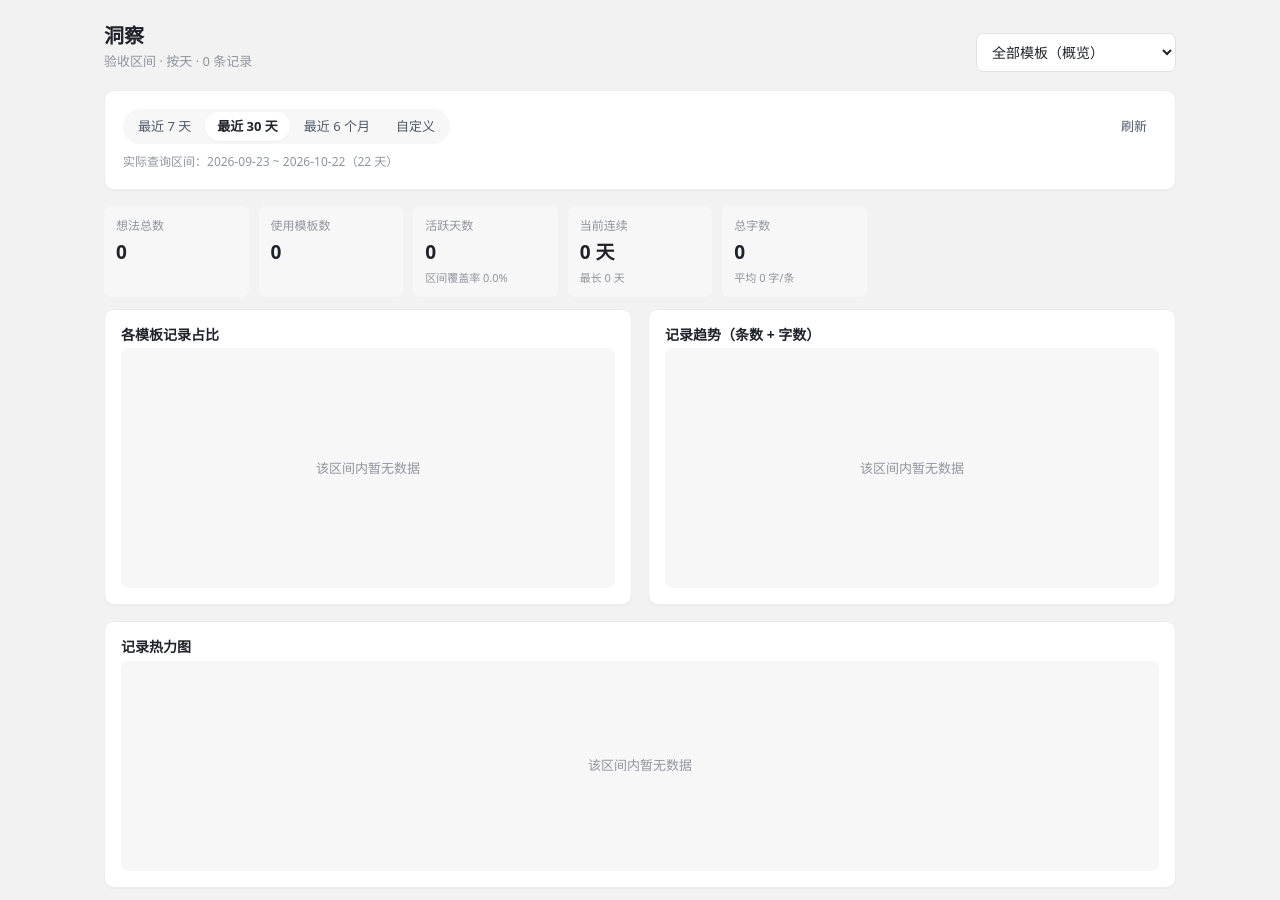
it: 洞察请求与筛选条件保持一致 › 区间无效时使旧请求失效并禁用导出
Check: the text "使用模板数" is shown, box [271,217,331,234]
Select "模板A" in the dropdown named "选择模板" at (1076, 52), box [976,33,1176,72]
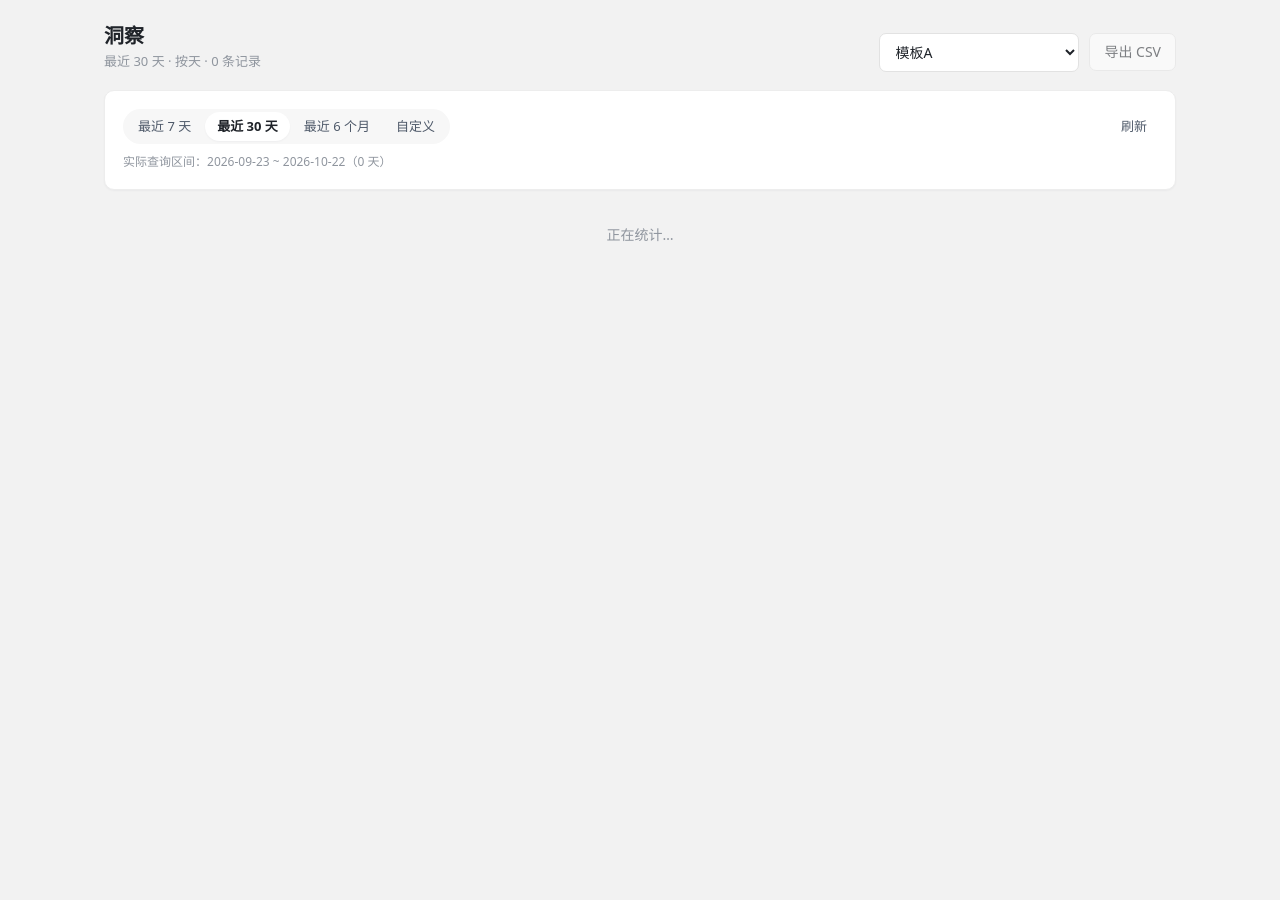
Click the tab "自定义" at (416, 126), box [384,112,447,141]
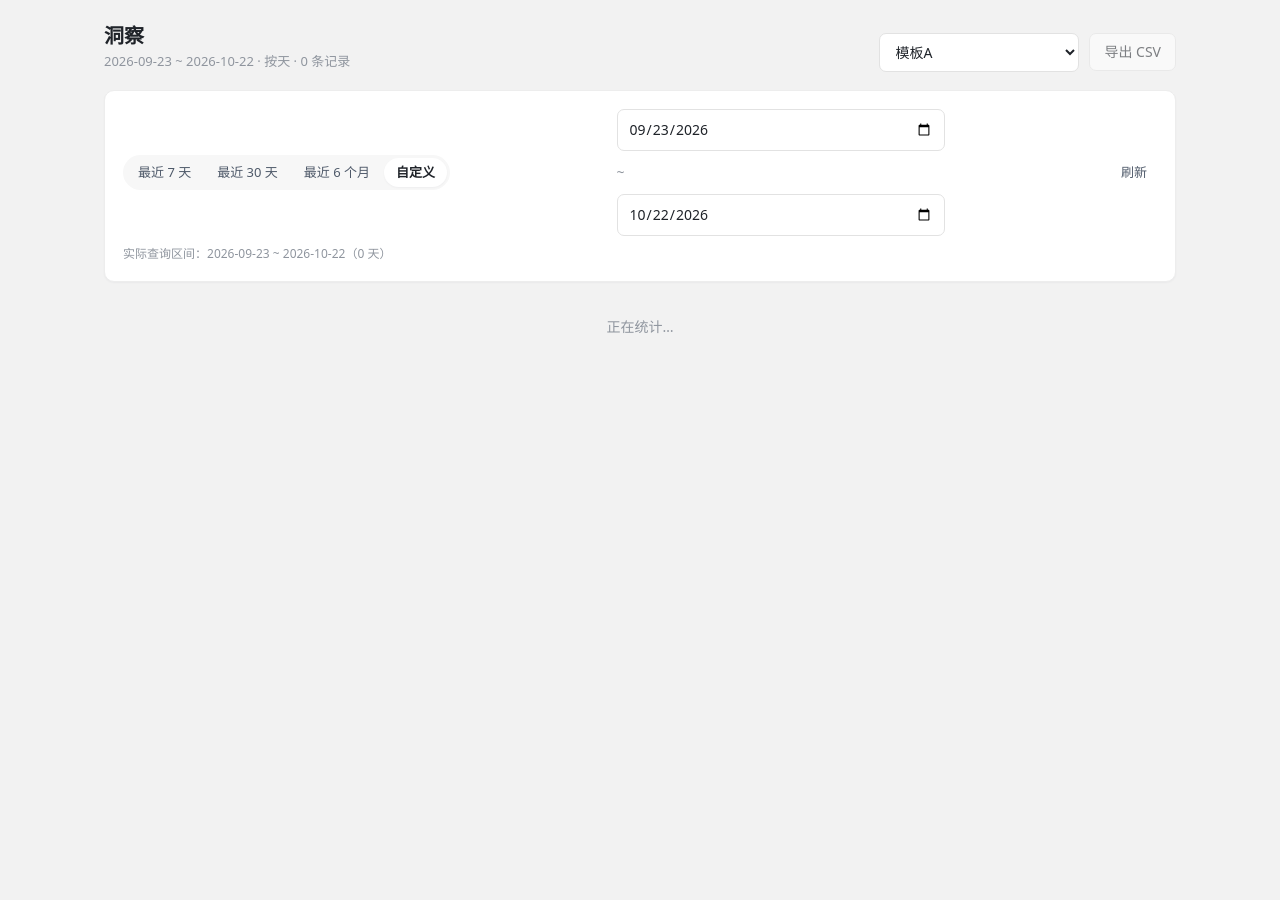
Type "2099-01-01" into the date field named "开始日期" at (780, 130), box [616,109,944,151]
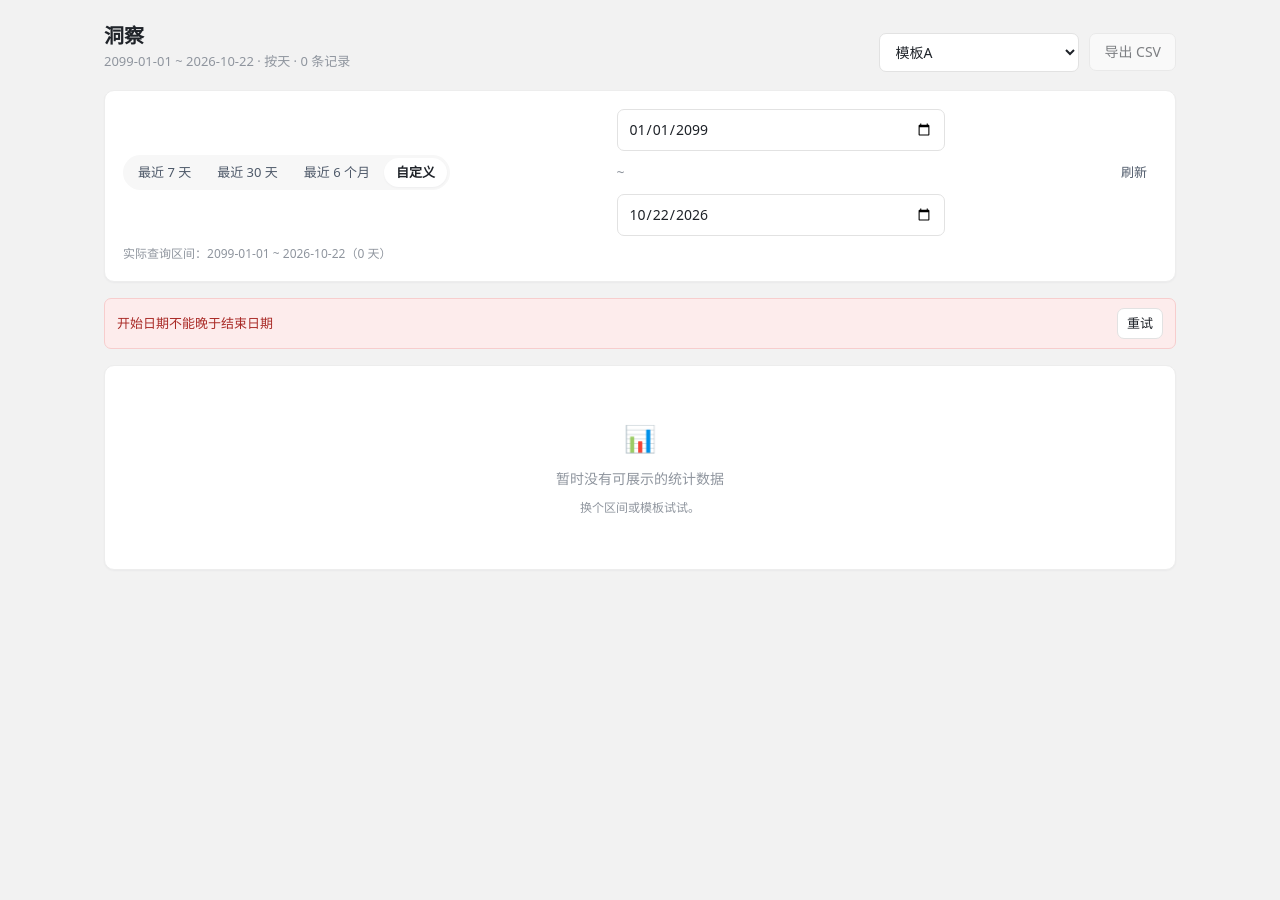
Check: the button "导出 CSV" is disabled, box [1089,33,1176,72]
Check: the text "正在统计…" is gone
